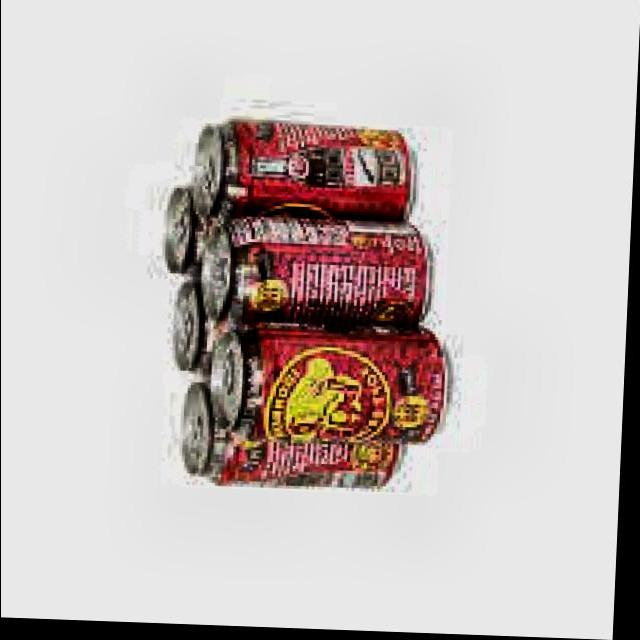litter: (208, 324, 444, 450), (196, 216, 438, 338), (176, 378, 417, 498), (188, 115, 422, 234), (168, 276, 228, 387), (156, 180, 216, 286)
